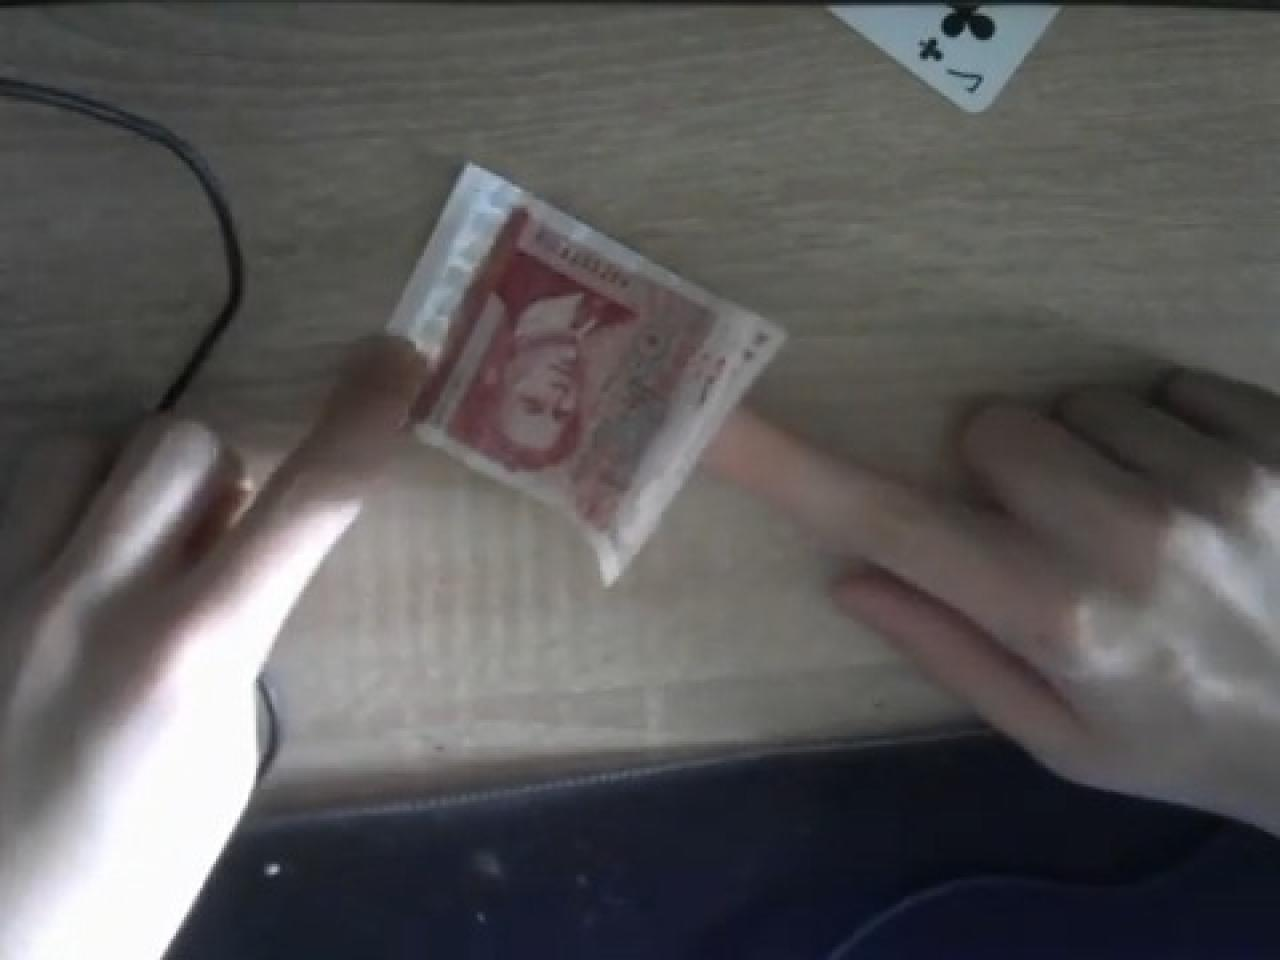5leva: (405, 162, 784, 571)
